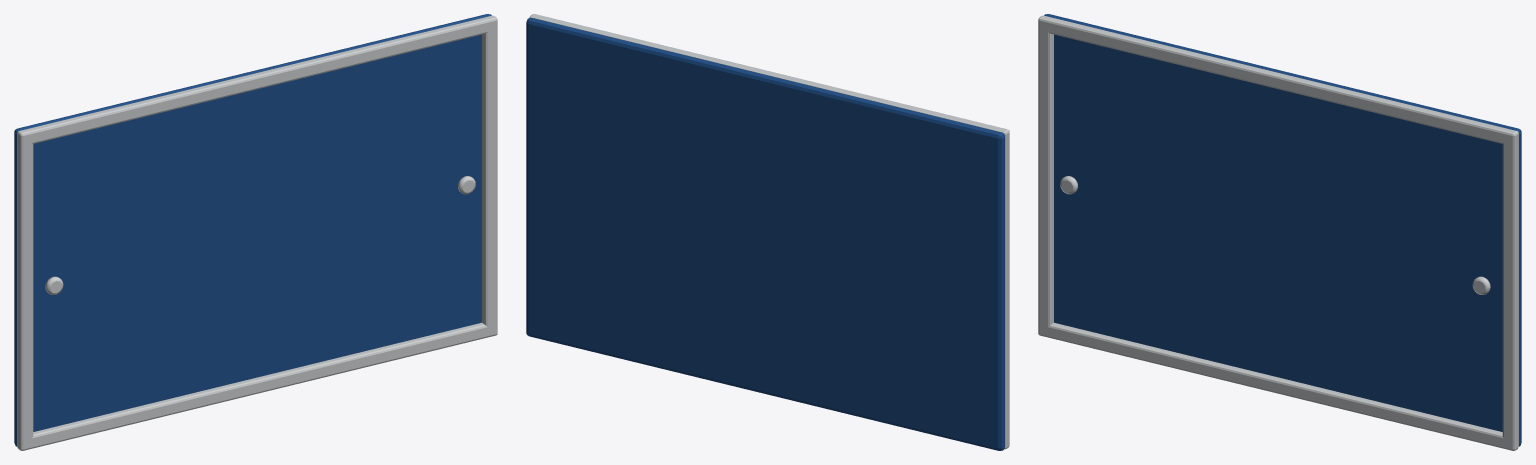
The model's file is BienSoNha.glb.
3 views of the same model, side by side, from view 1: azimuth 30°, elevation 25°; view 2: azimuth 150°, elevation 25°; view 3: azimuth 330°, elevation 25° (orthographic).
Parts seen in each view (by area): view 1: BienSoNha; view 2: BienSoNha; view 3: BienSoNha.
Part boxes in pixels (x1,y1,x2,y2): BienSoNha: (14, 14, 497, 450); BienSoNha: (526, 14, 1009, 450); BienSoNha: (1038, 14, 1521, 450).
Bounding box in the file's own units: 0.22 × 0.14 × 0.009.
